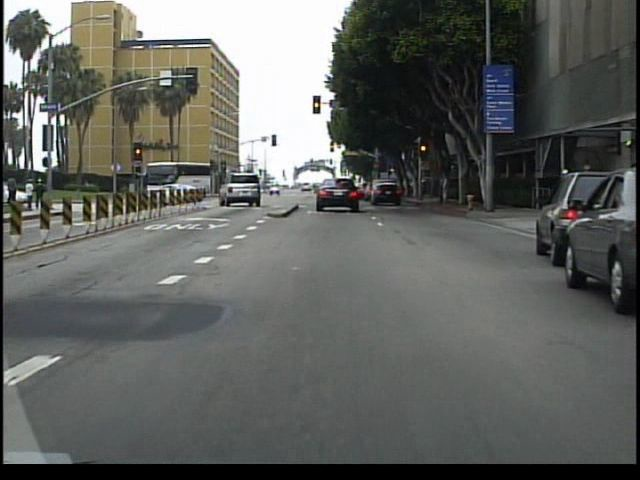person: (438, 167, 453, 207), (7, 172, 22, 208), (27, 176, 40, 213), (36, 175, 49, 208)
